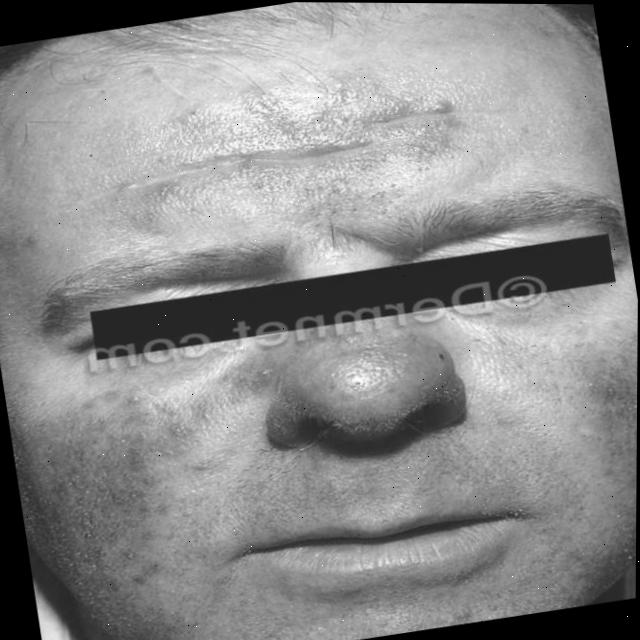Rosacea: (2, 345, 293, 605), (126, 65, 486, 241), (530, 328, 638, 478), (296, 327, 451, 423)
